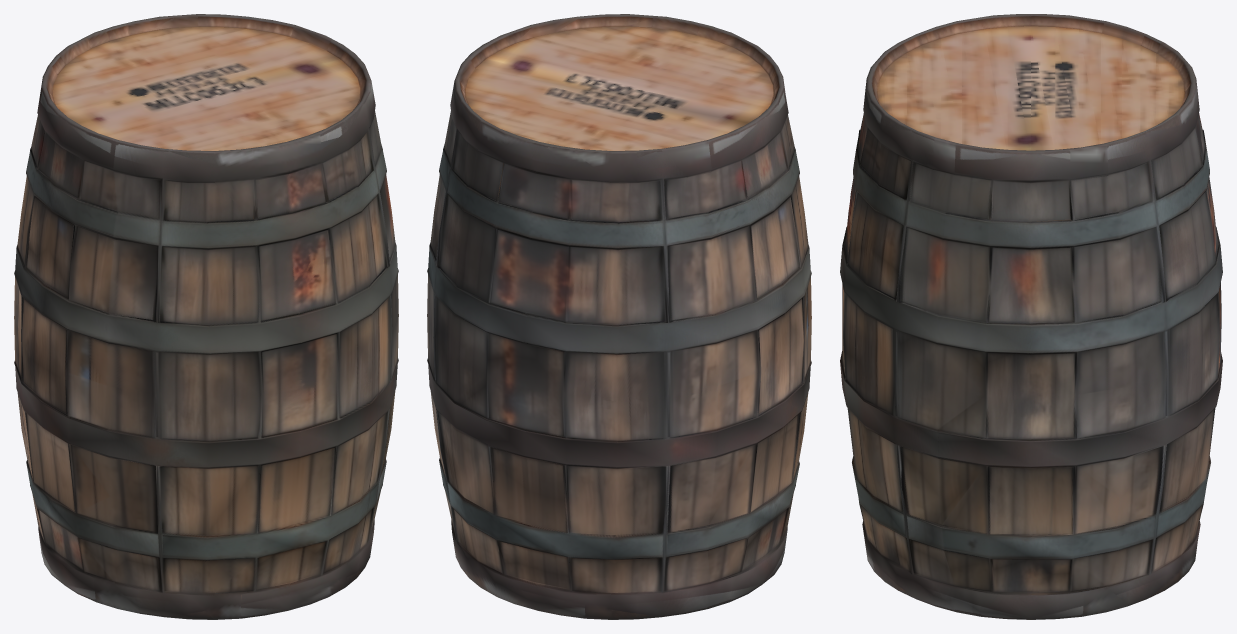
File: whiskey_barrel_0125184957_texture.glb
3 views of the same model, side by side, from view 1: azimuth 30°, elevation 25°; view 2: azimuth 150°, elevation 25°; view 3: azimuth 270°, elevation 25° (orthographic).
Visible parts, largest first — view 1: Mesh_0.001; view 2: Mesh_0.001; view 3: Mesh_0.001.
Boxes of the visible parts, <box> form: Mesh_0.001: <box>14,14,398,619</box>; Mesh_0.001: <box>427,14,811,619</box>; Mesh_0.001: <box>840,14,1222,619</box>.
Bounding box in the file's own units: 0.659 × 0.889 × 0.659.
1 material, 1 textured.
